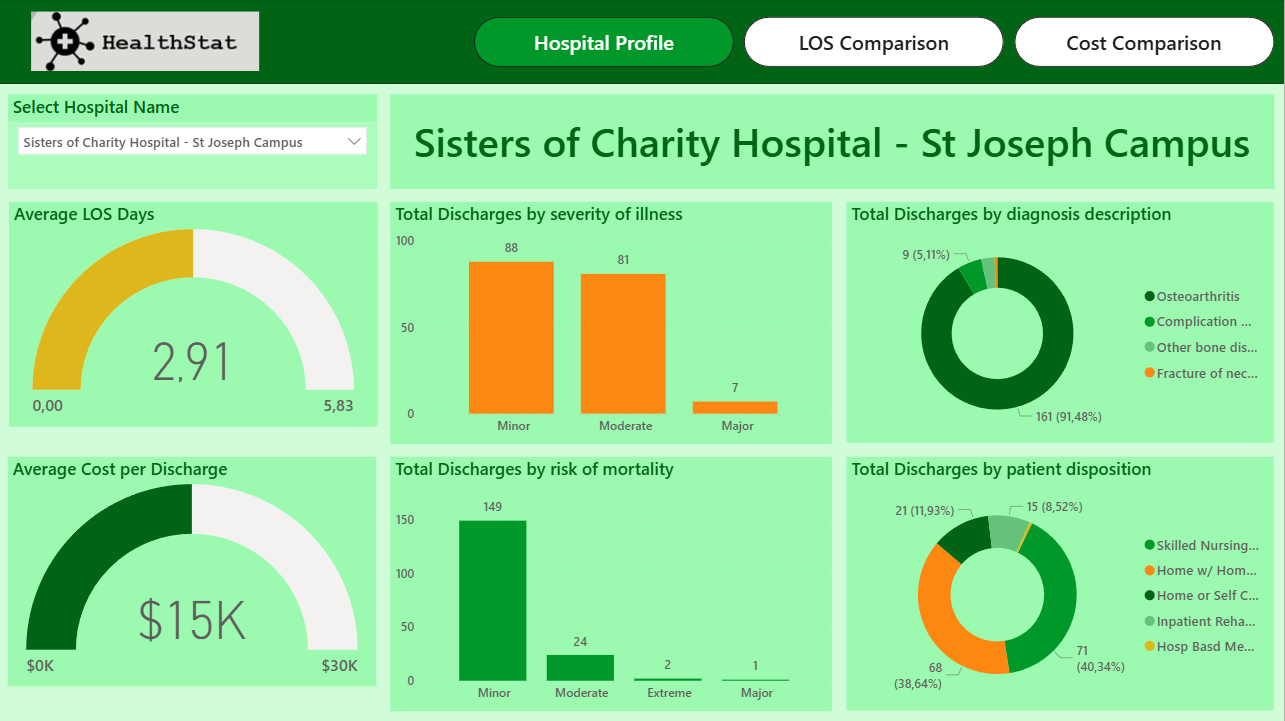

The dashboard page shown, as its layout file describes it:
{"tool":"powerbi","page":{"name":"Hospital Profile","canvas":[1280,720],"ordinal":0},"visuals":[{"type":"gauge","fields":{"Y":["_Measures.Average LOS Days"]},"box":[10,203,367.4,224.2],"z":0},{"type":"gauge","fields":{"Y":["_Measures.Average Cost per Discharge"]},"box":[8.7,457.1,367.4,229.2],"z":1000},{"type":"clusteredColumnChart","title":"Total Discharges by severity of illness","fields":{"Category":["hospital_discharges.apr_severity_of_illness_description"],"Y":["_Measures.Total Discharges"]},"box":[389.7,202.7,440.4,241.3],"z":2000},{"type":"clusteredColumnChart","title":"Total Discharges by risk of mortality","fields":{"Y":["_Measures.Total Discharges"],"Category":["hospital_discharges.apr_risk_of_mortality"]},"box":[389.7,457.2,440.4,253.4],"z":3000},{"type":"donutChart","title":"Total Discharges by diagnosis description","fields":{"Y":["_Measures.Total Discharges"],"Category":["hospital_discharges.ccs_diagnosis_description"]},"box":[844.4,203,425.9,240.4],"z":4000},{"type":"donutChart","title":"Total Discharges by patient disposition","fields":{"Y":["_Measures.Total Discharges"],"Category":["hospital_discharges.patient_disposition"]},"box":[844.4,457.1,425.9,252.8],"z":5000},{"type":"slicer","title":"Select Hospital Name","fields":{"Values":["hospital_discharges.facility_name"]},"box":[8.4,95.3,368,94.1],"z":6000},{"type":"card","fields":{"Values":["_Measures.Title Selected Facility"]},"box":[389.7,95.3,880.7,94.1],"z":7000},{"type":"shape","box":[0,0,1280,85.7],"z":8000},{"type":"pageNavigator","box":[472.9,18.1,797.5,50.7],"z":9000},{"type":"image","box":[0,8.4,290.8,68.8],"z":10000}]}

Visuals, with their boxes in screenshot pixels (x1, y1, x2, y2), scaled from the page's 1280x720 canvas onto the 1285x721 screenshot:
gauge - _Measures.Average LOS Days: 10, 203, 379, 428
gauge - _Measures.Average Cost per Discharge: 9, 458, 378, 687
"Total Discharges by severity of illness" clusteredColumnChart: 391, 203, 833, 445
"Total Discharges by risk of mortality" clusteredColumnChart: 391, 458, 833, 712
"Total Discharges by diagnosis description" donutChart: 848, 203, 1275, 444
"Total Discharges by patient disposition" donutChart: 848, 458, 1275, 711
"Select Hospital Name" slicer: 8, 95, 378, 190
card - _Measures.Title Selected Facility: 391, 95, 1275, 190
shape: 0, 0, 1284, 86
pageNavigator: 475, 18, 1275, 69
image: 0, 8, 292, 77
